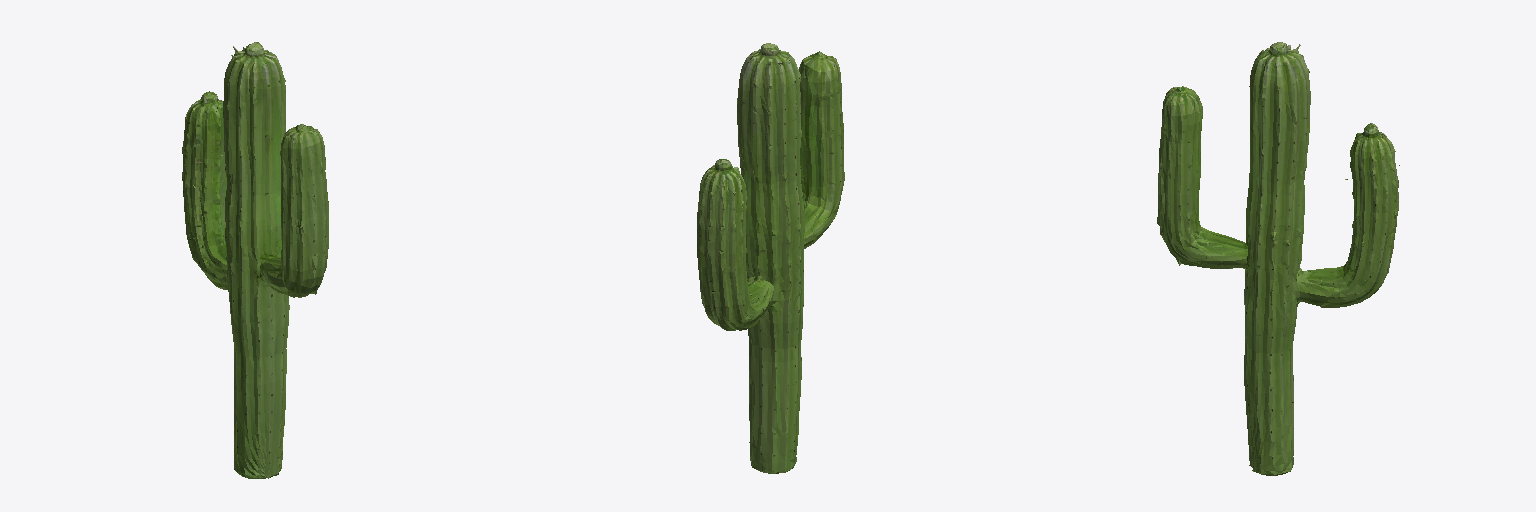
3 renders of one model, left to right at view 1: azimuth 30°, elevation 25°; view 2: azimuth 150°, elevation 25°; view 3: azimuth 270°, elevation 25°, orthographic.
Parts seen in each view (by area): view 1: tripo_node_38ffb5cc-29f8-4cc7-b186-[number redacted]c293; view 2: tripo_node_38ffb5cc-29f8-4cc7-b186-[number redacted]c293; view 3: tripo_node_38ffb5cc-29f8-4cc7-b186-[number redacted]c293.
Part boxes in pixels (left/top/right/bottom): tripo_node_38ffb5cc-29f8-4cc7-b186-[number redacted]c293: left=182, top=42, right=328, bottom=478; tripo_node_38ffb5cc-29f8-4cc7-b186-[number redacted]c293: left=697, top=43, right=844, bottom=473; tripo_node_38ffb5cc-29f8-4cc7-b186-[number redacted]c293: left=1157, top=42, right=1399, bottom=475.
Size of the model in its own units: 0.1454 by 0.9926 by 0.5242.
Materials: 1 (1 with a texture image).